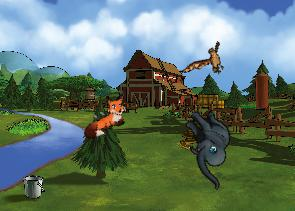eagle: (179, 32, 235, 91)
elephant: (164, 102, 253, 190)
fox: (74, 89, 135, 142)
